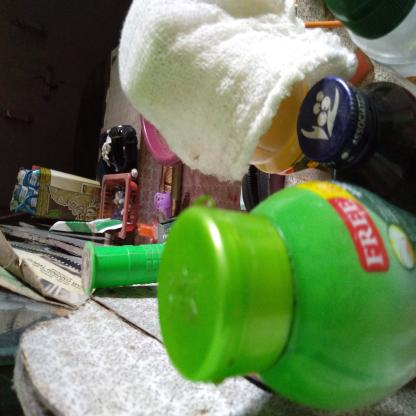bottle: (2, 207, 180, 416), (177, 155, 312, 416)
